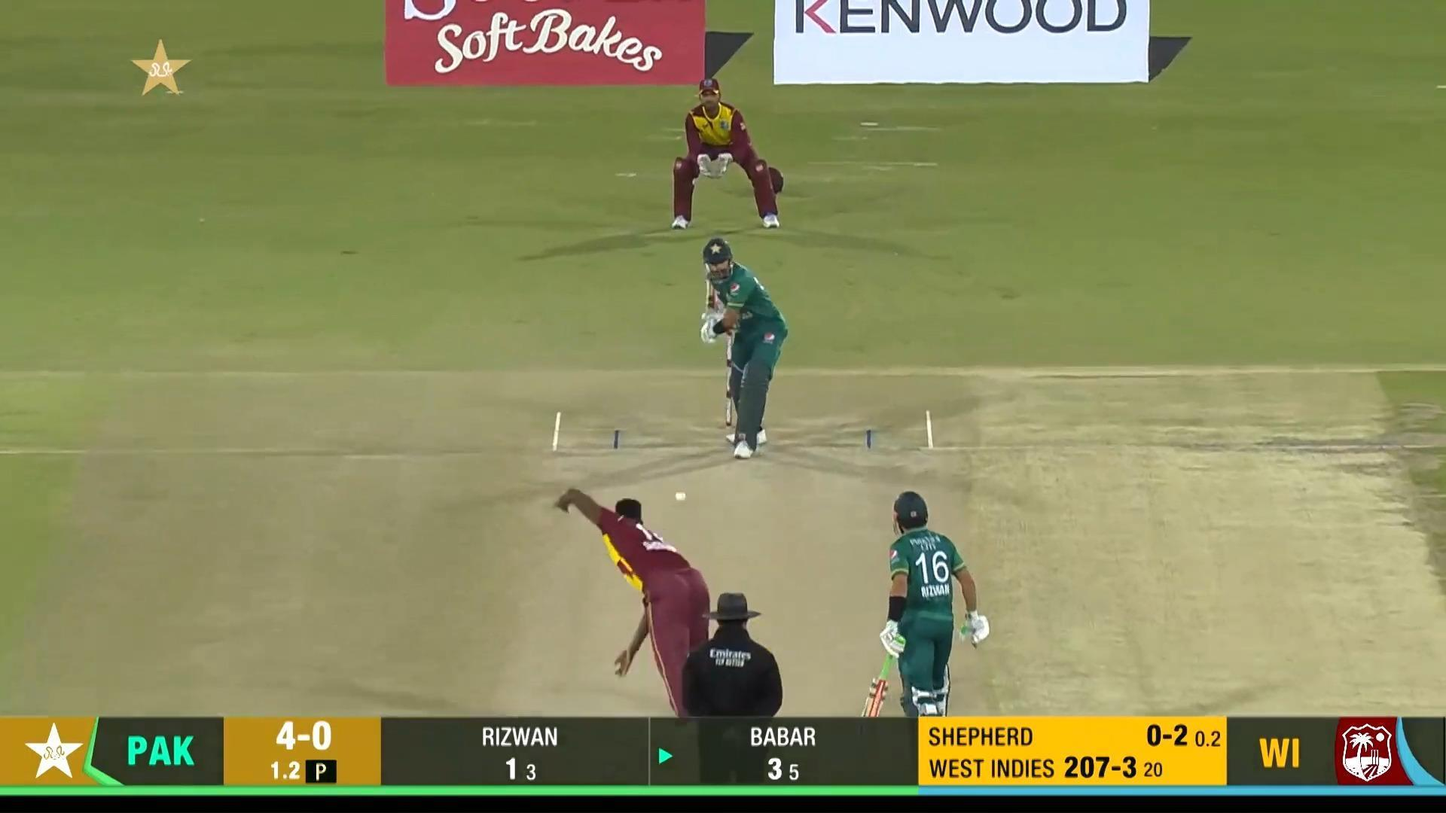BM 1: (700, 238, 789, 459)
BO: (554, 487, 710, 715)
